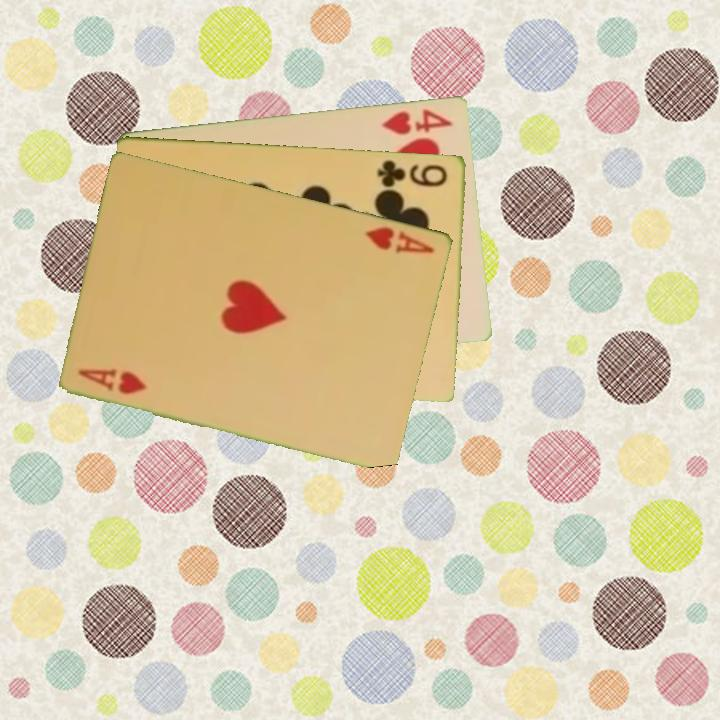4h: (378, 105, 455, 138)
9c: (374, 156, 450, 190)
Ah: (362, 222, 437, 256), (75, 365, 151, 397)
